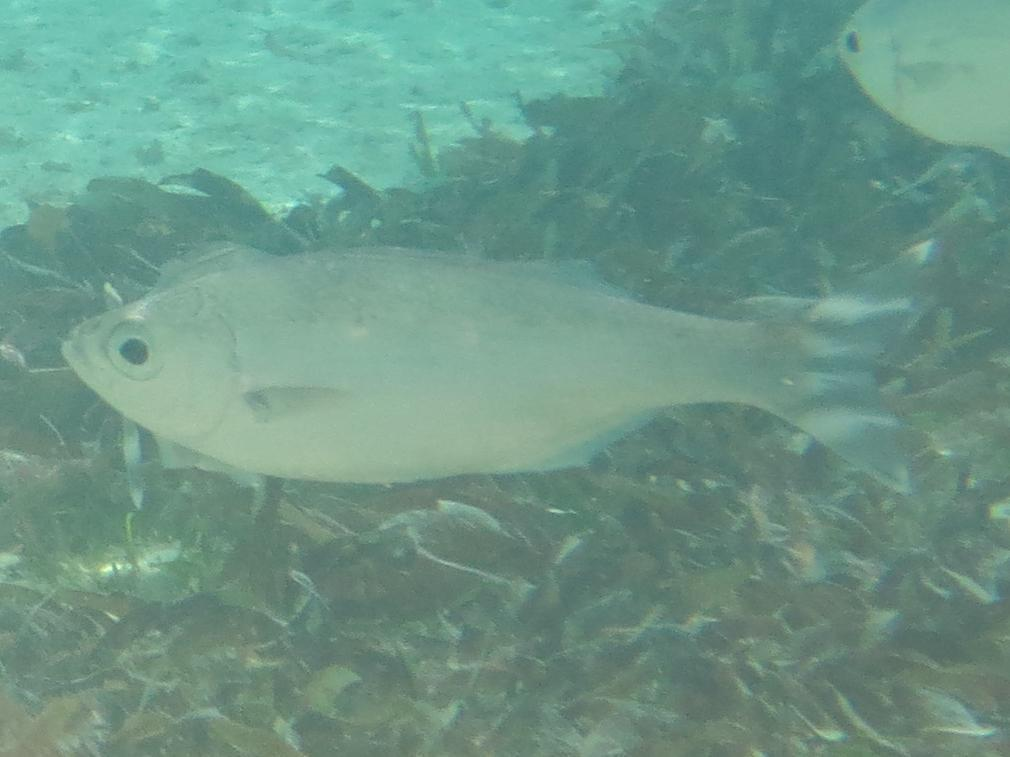Fish: (45, 226, 963, 513)
